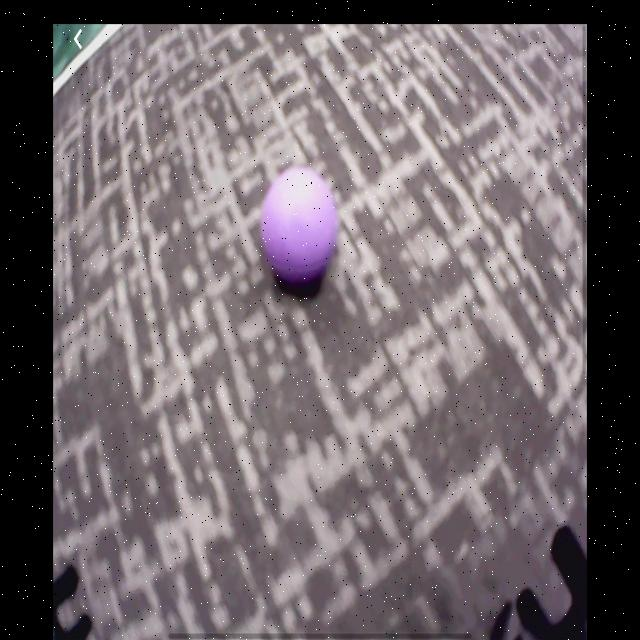ball: (260, 168, 339, 286)
